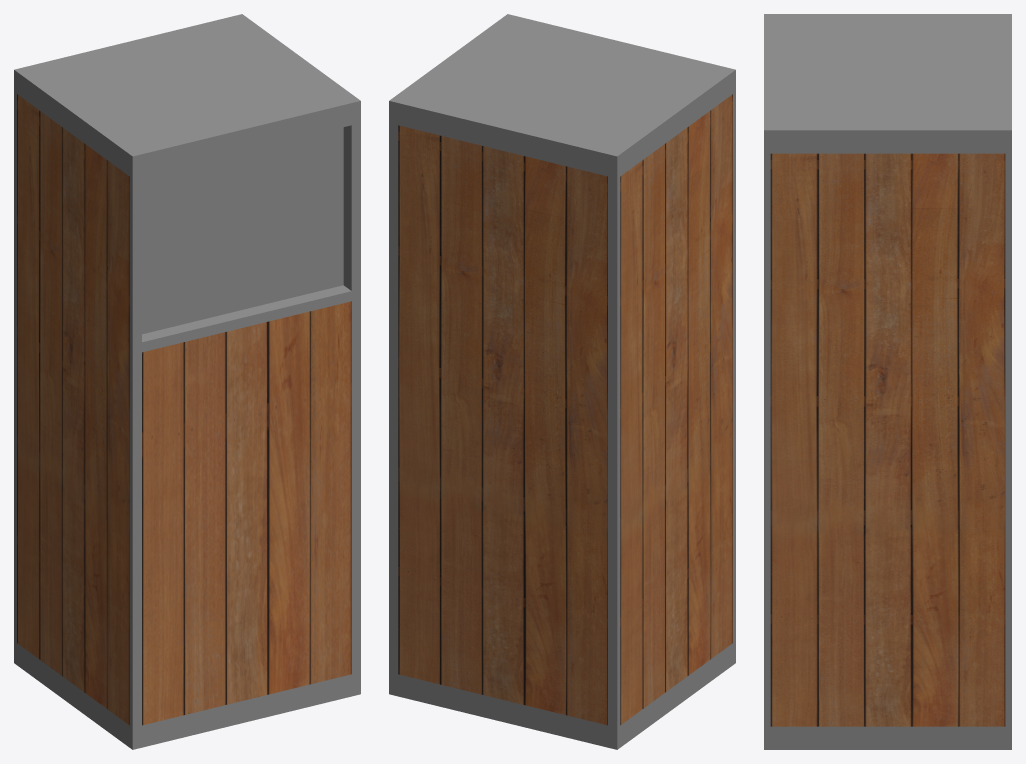
The model's file is trash_can_b_01.FBX.
The picture shows the model from 3 angles, left to right: view 1: azimuth 30°, elevation 25°; view 2: azimuth 150°, elevation 25°; view 3: azimuth 270°, elevation 25°; orthographic projection. The views are drawn at different scales.
Visible parts, largest first — view 1: trash_can_b_01; view 2: trash_can_b_01; view 3: trash_can_b_01.
Part boxes in pixels (bbox=[...]): trash_can_b_01: bbox=[14, 14, 360, 749]; trash_can_b_01: bbox=[389, 14, 735, 749]; trash_can_b_01: bbox=[764, 14, 1011, 749].
Size of the model in its own units: 54.92 by 136 by 49.44.
